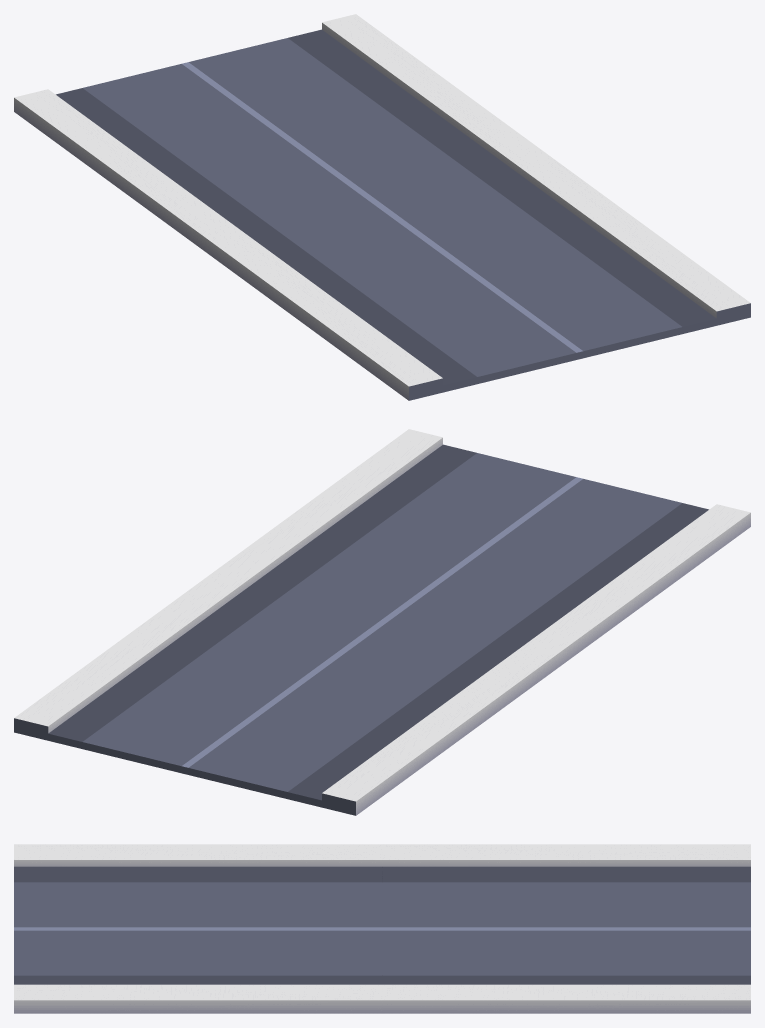
File: road-straight.glb
The picture shows the model from 3 angles, top to bottom: view 1: azimuth 30°, elevation 25°; view 2: azimuth 150°, elevation 25°; view 3: azimuth 270°, elevation 25°; orthographic projection. The views are drawn at different scales.
Parts seen in each view (by area): view 1: road-straight.001, road-straight; view 2: road-straight, road-straight.001; view 3: road-straight, road-straight.001.
Part boxes in pixels (box(x1,y1,x2,y2)): road-straight.001: box(211, 158, 750, 400); road-straight: box(14, 14, 552, 255); road-straight: box(14, 573, 553, 815); road-straight.001: box(212, 429, 750, 670); road-straight: box(382, 844, 750, 1013); road-straight.001: box(14, 844, 382, 1013).
Size of the model in its own units: 0.5 by 0.02 by 1.
Materials: 1 (1 with a texture image).
